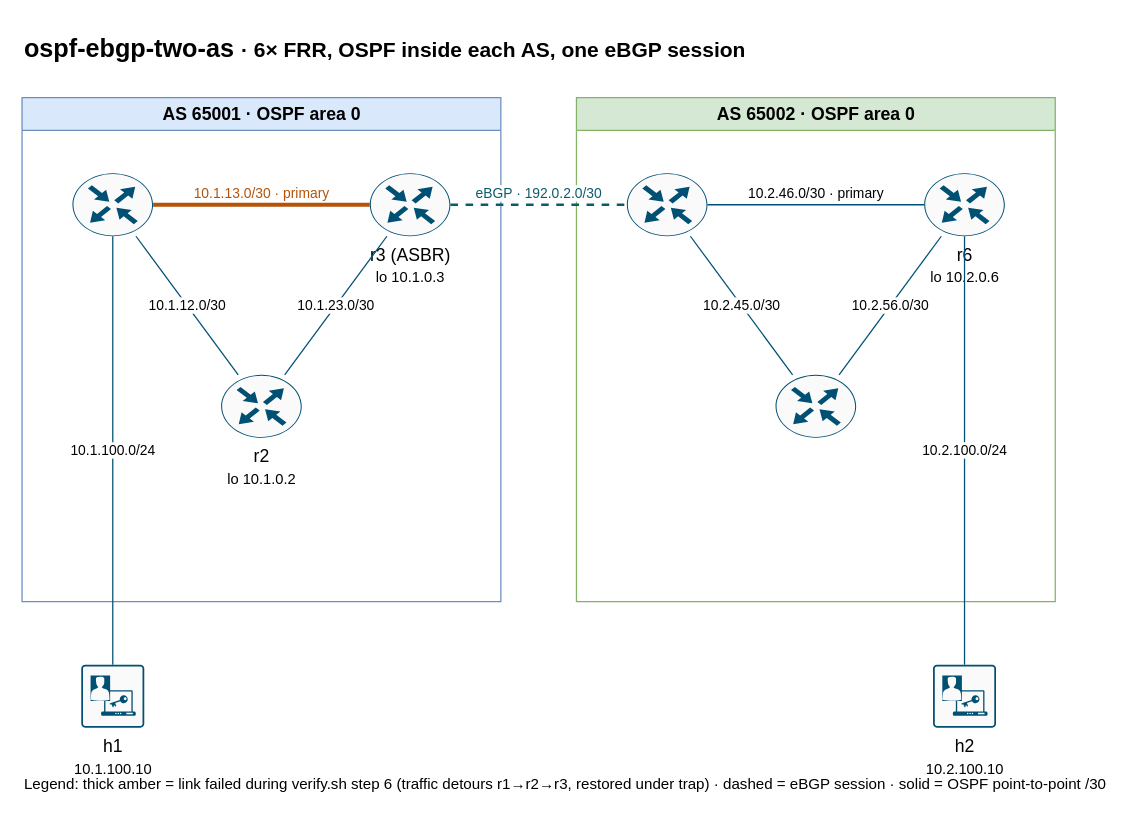
Some shapes in this 1129 by 824 pixel diagram are drawn without their labels. The shapes that lost their labels are listed below. From the top down, each one's centre as x and y in pixels, then its label:
point 112,204: r1 lo 10.1.0.1
point 666,204: r4 (ASBR) lo 10.2.0.4
point 815,406: r5 lo 10.2.0.5
